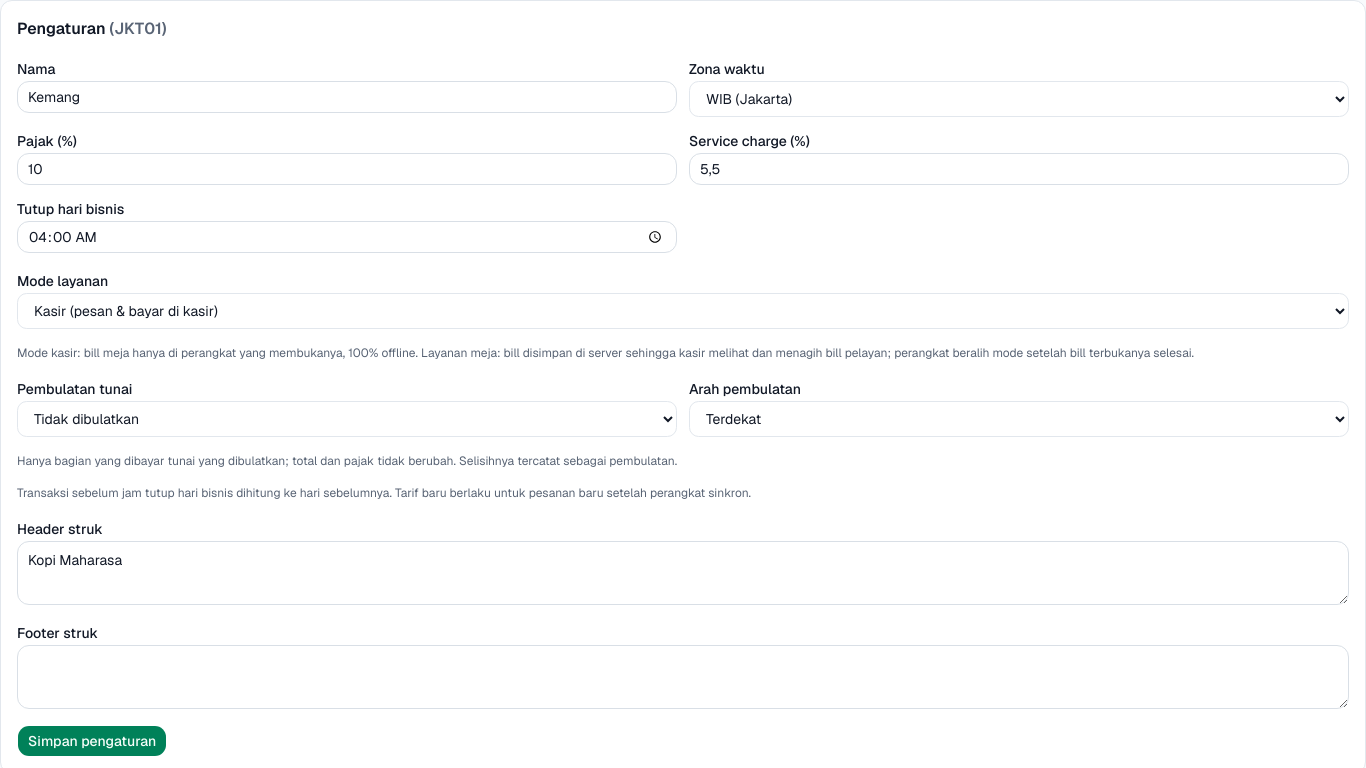
it: OutletSettingsForm › does not save an invalid rate
The width and height of the screenshot is (1366, 768).
Replace the text in the field labelled "Pajak (%)" with "12,345" at (347, 169), box x1=17 y1=153 x2=677 y2=185
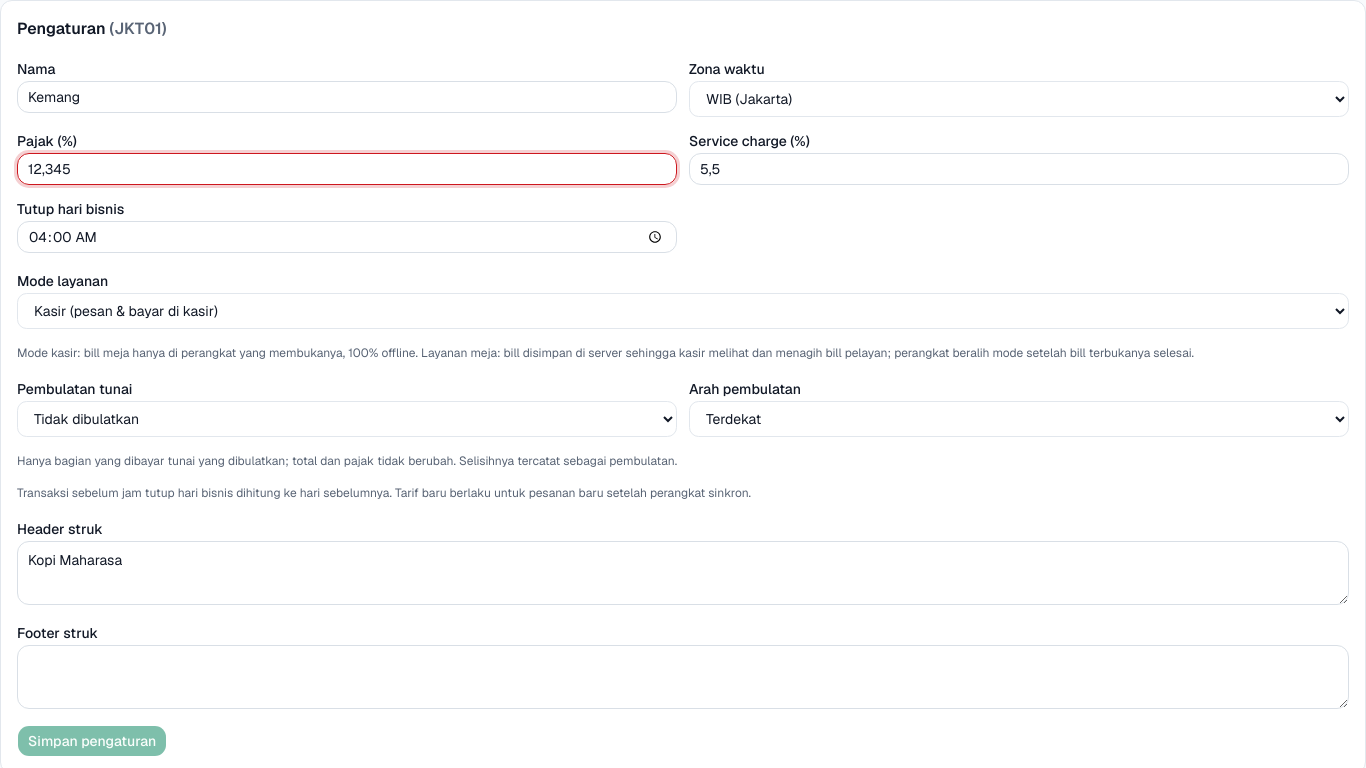
Now the button "Simpan pengaturan" is disabled, box x1=17 y1=725 x2=167 y2=757
